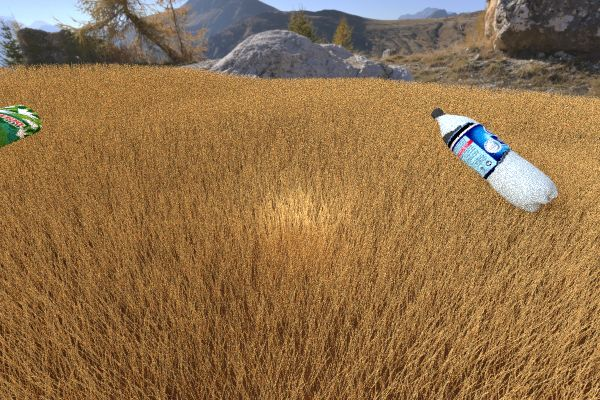Plastic Bottle: (430, 107, 558, 212), (0, 104, 41, 148)
